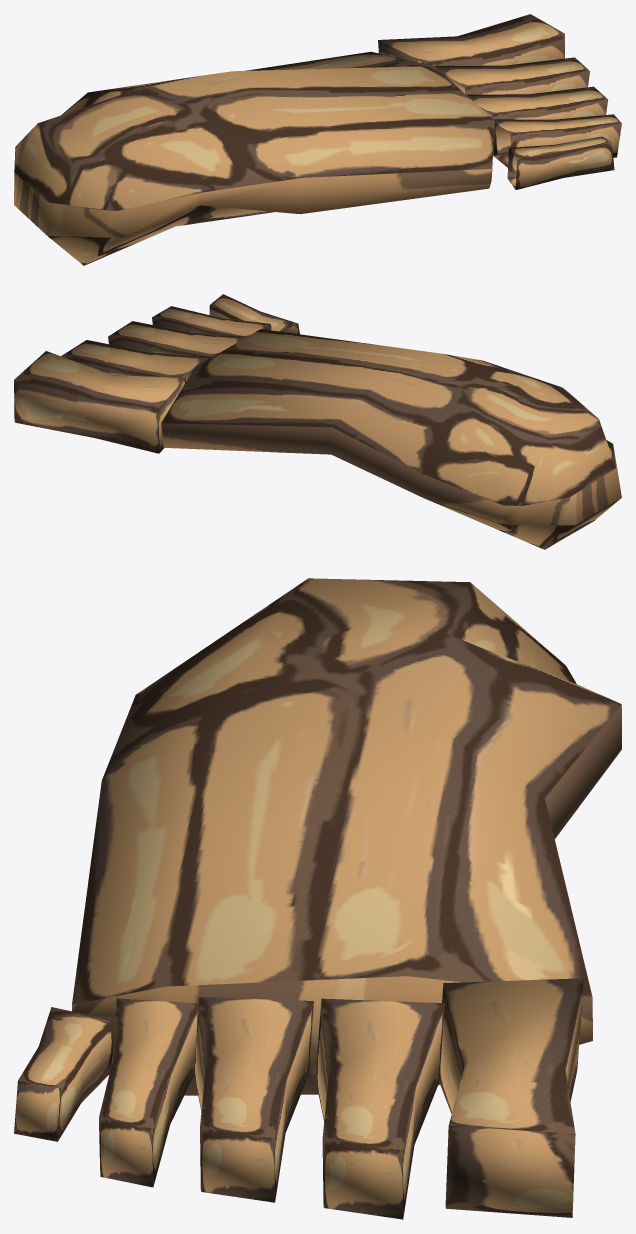
File: SM_PROP_skeleton_foot_R_dungeon.fbx
3 views of the same model, one above another, from view 1: azimuth 30°, elevation 25°; view 2: azimuth 150°, elevation 25°; view 3: azimuth 270°, elevation 25° (orthographic). The views are drawn at different scales.
Visible parts, largest first — view 1: SM_PROP_skeleton_foot_R_dungeon; view 2: SM_PROP_skeleton_foot_R_dungeon; view 3: SM_PROP_skeleton_foot_R_dungeon.
Boxes of the visible parts, x1,y1,x2,y2 form: SM_PROP_skeleton_foot_R_dungeon: (14, 14, 621, 265); SM_PROP_skeleton_foot_R_dungeon: (14, 294, 621, 549); SM_PROP_skeleton_foot_R_dungeon: (14, 578, 621, 1219).
Bounding box in the file's own units: 30.36 × 6.55 × 15.31.
